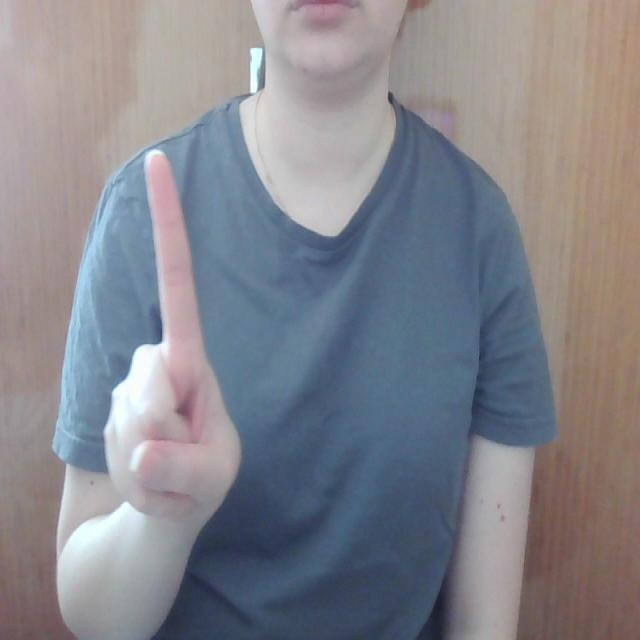Hayir: (89, 142, 245, 544)
